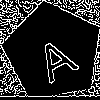A: (28, 27, 81, 84)
